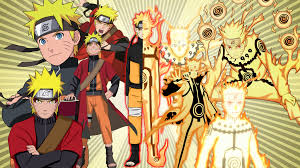Naruto: (28, 2, 80, 65), (24, 71, 66, 119), (219, 19, 252, 64), (219, 82, 249, 119), (166, 24, 193, 61), (95, 5, 114, 38), (132, 12, 155, 39), (84, 33, 102, 58)
